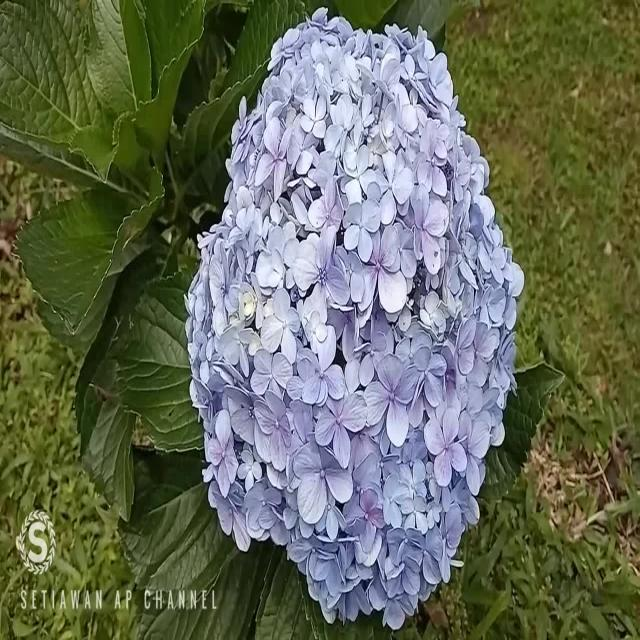Flower: (190, 6, 526, 626)
